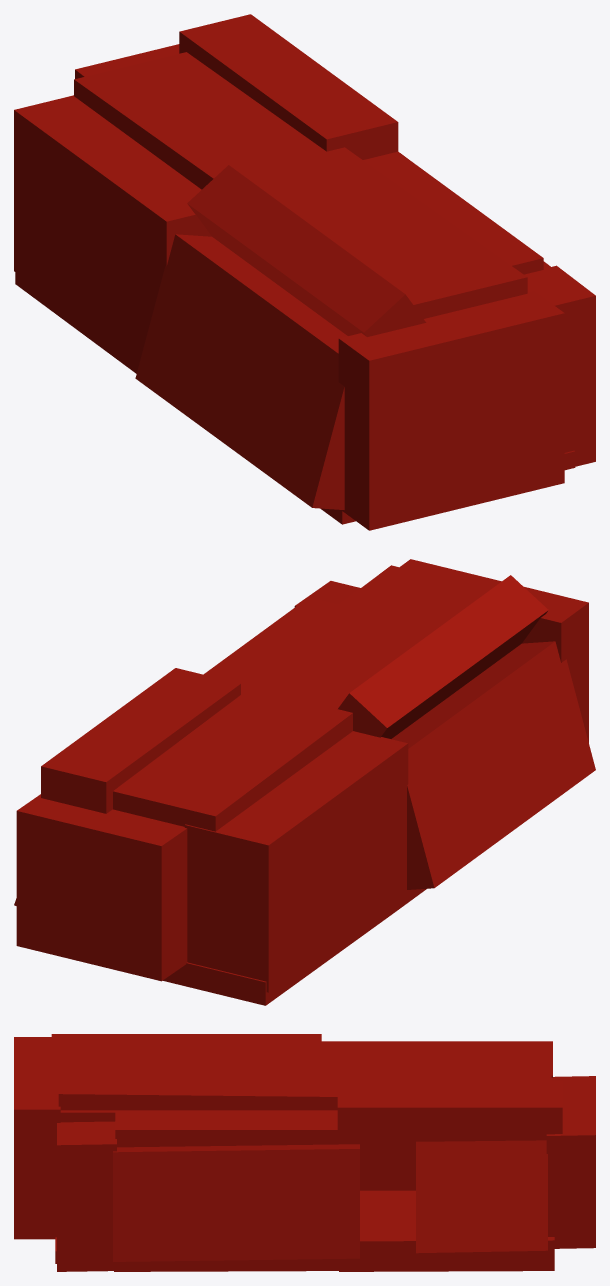
Rendered from airplane_colliders.fbx.
The picture shows the model from 3 angles, top to bottom: view 1: azimuth 30°, elevation 25°; view 2: azimuth 150°, elevation 25°; view 3: azimuth 270°, elevation 25°; orthographic projection. The views are drawn at different scales.
Parts seen in each view (by area): view 1: collider.002, collider.011, collider.017, collider.005, collider.016, collider.015, collider.009, collider.010, collider.004, collider.007; view 2: collider.005, collider.011, collider.017, collider.007, collider.016, collider.015, collider.002, collider.004, collider.010, collider.009; view 3: collider.013, collider.011, collider.014, collider.015, collider.002, collider.009, collider.010, collider.007, collider.006, collider.016, collider.005, collider.008 (+2 smaller).
Part boxes in pixels (x1,y1,x2,y2): collider.002: [338, 291, 564, 530]; collider.011: [74, 52, 527, 318]; collider.017: [135, 234, 347, 509]; collider.005: [14, 95, 211, 362]; collider.016: [187, 165, 426, 336]; collider.015: [179, 14, 398, 159]; collider.009: [524, 265, 595, 466]; collider.010: [363, 151, 543, 274]; collider.004: [15, 272, 139, 373]; collider.007: [75, 44, 179, 78]; collider.005: [184, 731, 408, 992]; collider.011: [113, 565, 490, 831]; collider.017: [391, 641, 595, 889]; collider.007: [16, 794, 187, 981]; collider.016: [338, 575, 548, 738]; collider.015: [41, 668, 240, 813]; collider.002: [400, 559, 588, 742]; collider.004: [162, 901, 394, 1005]; collider.010: [203, 597, 337, 682]; collider.009: [294, 581, 360, 607]; collider.013: [113, 1144, 359, 1261]; collider.011: [58, 1048, 551, 1110]; collider.014: [416, 1140, 547, 1253]; collider.015: [337, 1081, 562, 1147]; collider.002: [14, 1037, 60, 1239]; collider.009: [57, 1121, 116, 1271]; collider.010: [115, 1110, 337, 1147]; collider.007: [546, 1076, 595, 1248]; collider.006: [339, 1229, 554, 1271]; collider.016: [51, 1034, 321, 1067]; collider.005: [321, 1041, 552, 1190]; collider.008: [114, 1259, 338, 1271].
Size of the model in its own units: 3.76 by 2.49 by 7.94.
